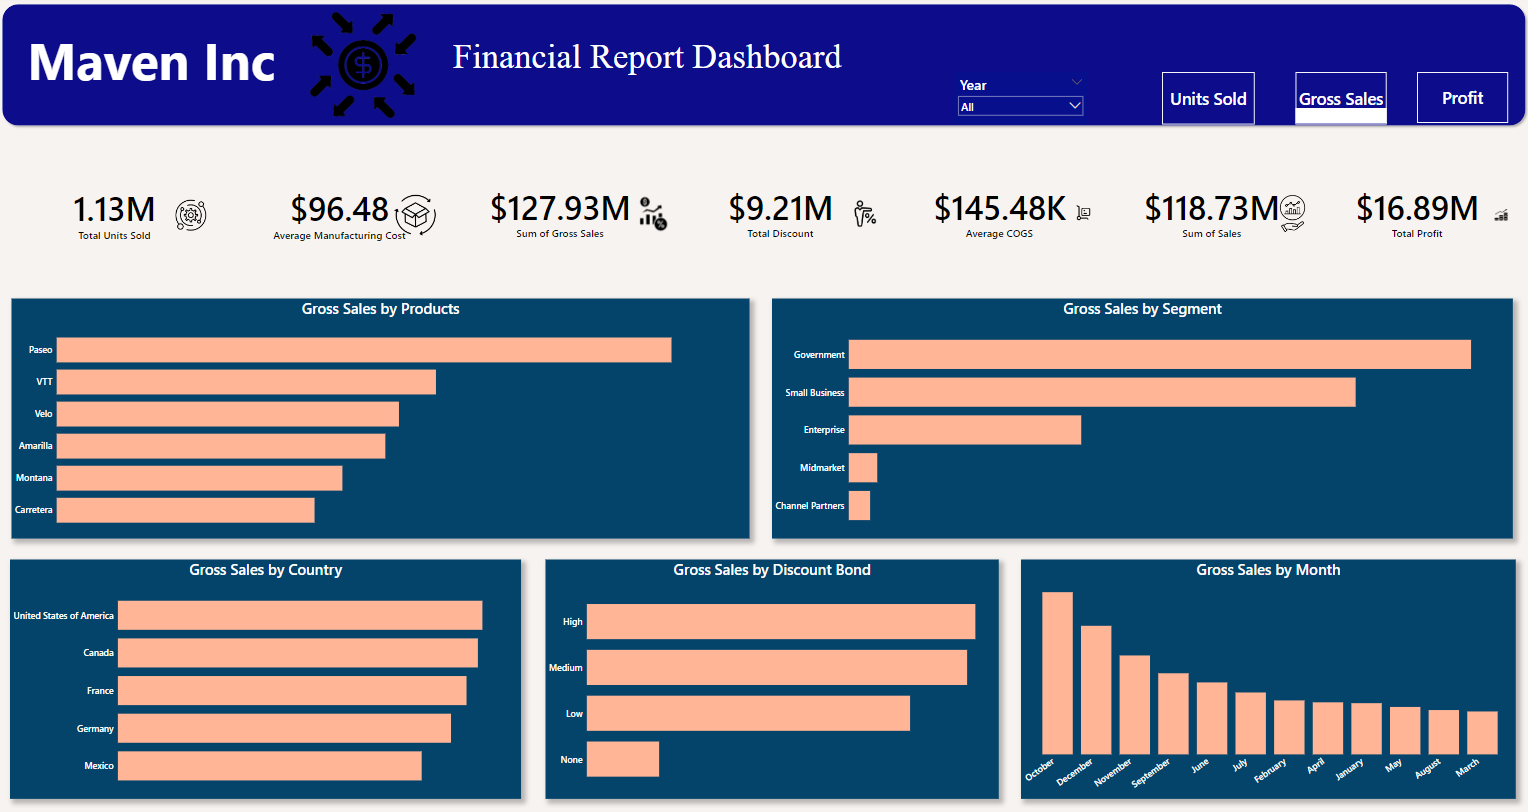

What the dashboard file says about the page in this screenshot:
{"tool":"powerbi","page":{"name":"Gross Sales","canvas":[3200,1700],"ordinal":1},"visuals":[{"type":"shape","box":[0,0,3198.9,271.2],"z":0},{"type":"textbox","box":[56.8,45.4,624.6,177.9],"z":2000},{"type":"image","box":[545.1,0,435.3,272.6],"z":3000},{"type":"textbox","box":[927.5,71.9,1241.6,132.5],"z":4000},{"type":"actionButton","box":[2430.7,151.7,193.7,109.8],"z":6000},{"type":"actionButton","box":[2963.3,151.7,190.5,106.5],"z":7000},{"type":"actionButton","box":[2708.3,151.7,190.5,109.8],"z":8000},{"type":"card","fields":{"Values":["financials.SUM OF UNIT"]},"box":[28.2,319.5,429.2,253.8],"z":9000},{"type":"card","fields":{"Values":["financials.Average Cost"]},"box":[498.1,319.5,429.2,253.8],"z":10000},{"type":"card","fields":{"Values":["financials.Sum of Gross Sales"]},"box":[958.6,316.4,429.2,253.8],"z":11000},{"type":"card","fields":{"Values":["financials.Sum of Discount"]},"box":[1419.1,316.4,429.2,253.8],"z":12000},{"type":"card","fields":{"Values":["financials.Sum of Sales"]},"box":[2337,316.4,394.7,253.8],"z":13000},{"type":"card","fields":{"Values":["financials.Sum of COGS"]},"box":[1882.8,316.4,416.7,253.8],"z":14000},{"type":"card","fields":{"Values":["financials.Total Profit"]},"box":[2763.1,316.4,401,253.8],"z":15000},{"type":"shape","box":[2708.3,226,190.5,32.3],"z":16000},{"type":"image","box":[347.7,363.4,109.6,172.3],"z":17000},{"type":"image","box":[814.5,363.4,112.8,172.3],"z":18000},{"type":"image","box":[1320.2,361.5,100.1,171.1],"z":19000},{"type":"image","box":[1773.1,360.3,75.2,172.3],"z":20000},{"type":"image","box":[2650.2,361.5,106.5,171.1],"z":21000},{"type":"image","box":[3113.9,363.4,50.1,169.2],"z":22000},{"type":"image","box":[2233.6,357.1,65.8,172.3],"z":23000},{"type":"clusteredBarChart","title":"Gross Sales by Products","fields":{"Category":["financials.Product"],"Y":["Sum(financials.Gross Sales)"]},"box":[28.2,623.4,1541.3,501.2],"z":24000},{"type":"clusteredBarChart","title":"Gross Sales by Segment","fields":{"Category":["financials.Segment"],"Y":["Sum(financials.Gross Sales)"]},"box":[1616.5,623.4,1547.6,501.2],"z":25000},{"type":"clusteredBarChart","title":"Gross Sales by Discount Bond","fields":{"Category":["financials.Discount Band"],"Y":["Sum(financials.Gross Sales)"]},"box":[1143.2,1169.7,946.4,499.7],"z":26000},{"type":"clusteredColumnChart","title":"Gross Sales by Month","fields":{"Category":["financials.Month Name"],"Y":["Sum(financials.Gross Sales)"]},"box":[2135,1169.7,1033.4,499.7],"z":27000},{"type":"clusteredBarChart","title":"Gross Sales by Country","fields":{"Category":["financials.Country"],"Y":["Sum(financials.Gross Sales)"]},"box":[26.5,1169.7,1067.5,499.7],"z":28000},{"type":"slicer","fields":{"Values":["financials.Year"]},"box":[1994.9,151.7,280.8,109.8],"z":28001}]}

Visuals, with their boxes in screenshot pixels (x1, y1, x2, y2), scaled from the page's 3200x1700 canvas onto the 1528x812 screenshot:
shape: bbox=[0, 0, 1527, 130]
textbox: bbox=[27, 22, 325, 107]
image: bbox=[260, 0, 468, 130]
textbox: bbox=[443, 34, 1036, 98]
actionButton: bbox=[1161, 72, 1253, 125]
actionButton: bbox=[1415, 72, 1506, 123]
actionButton: bbox=[1293, 72, 1384, 125]
card - financials.SUM OF UNIT: bbox=[13, 153, 218, 274]
card - financials.Average Cost: bbox=[238, 153, 443, 274]
card - financials.Sum of Gross Sales: bbox=[458, 151, 663, 272]
card - financials.Sum of Discount: bbox=[678, 151, 883, 272]
card - financials.Sum of Sales: bbox=[1116, 151, 1304, 272]
card - financials.Sum of COGS: bbox=[899, 151, 1098, 272]
card - financials.Total Profit: bbox=[1319, 151, 1511, 272]
shape: bbox=[1293, 108, 1384, 123]
image: bbox=[166, 174, 218, 256]
image: bbox=[389, 174, 443, 256]
image: bbox=[630, 173, 678, 254]
image: bbox=[847, 172, 883, 254]
image: bbox=[1265, 173, 1316, 254]
image: bbox=[1487, 174, 1511, 254]
image: bbox=[1067, 171, 1098, 253]
"Gross Sales by Products" clusteredBarChart: bbox=[13, 298, 749, 537]
"Gross Sales by Segment" clusteredBarChart: bbox=[772, 298, 1511, 537]
"Gross Sales by Discount Bond" clusteredBarChart: bbox=[546, 559, 998, 797]
"Gross Sales by Month" clusteredColumnChart: bbox=[1019, 559, 1513, 797]
"Gross Sales by Country" clusteredBarChart: bbox=[13, 559, 522, 797]
slicer - financials.Year: bbox=[953, 72, 1087, 125]
